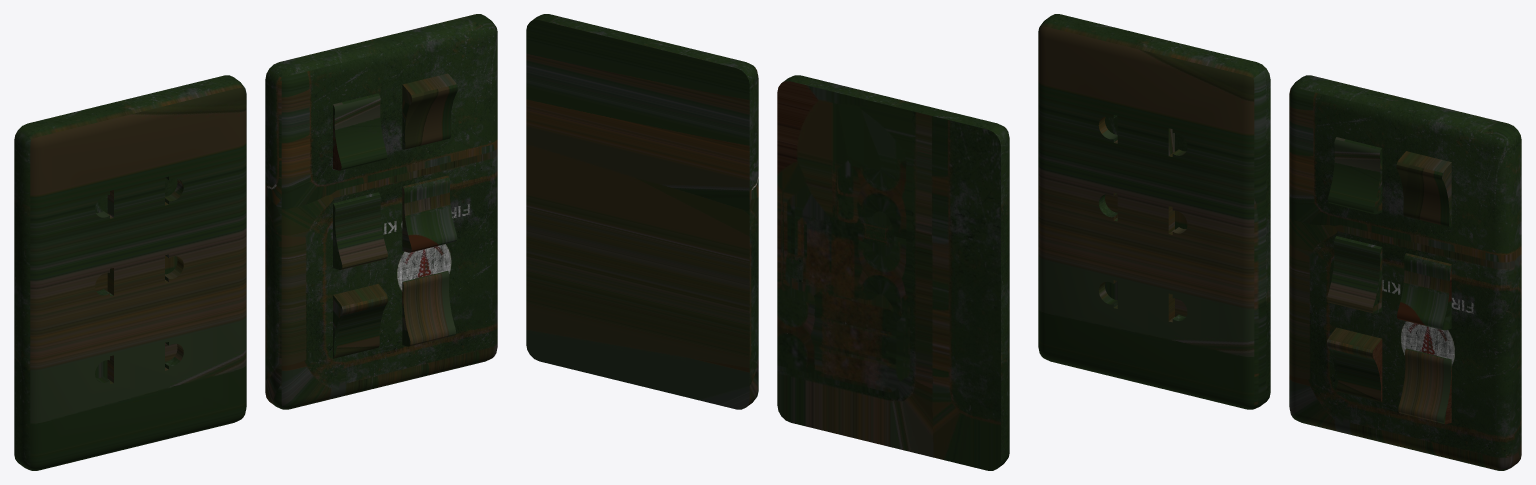
The model's file is Outlet.fbx.
3 renders of one model, left to right at view 1: azimuth 30°, elevation 25°; view 2: azimuth 150°, elevation 25°; view 3: azimuth 330°, elevation 25°, orthographic.
Visible parts, largest first — view 1: Cube_0, Cube.002_1; view 2: Cube_0, Cube.002_1; view 3: Cube_0, Cube.002_1.
Part boxes in pixels (<box>): Cube_0: <box>14,75,246,470</box>; Cube.002_1: <box>265,14,497,409</box>; Cube_0: <box>777,75,1009,470</box>; Cube.002_1: <box>526,14,758,409</box>; Cube_0: <box>1038,14,1270,409</box>; Cube.002_1: <box>1289,75,1521,470</box>.
Size of the model in its own units: 425 by 292 by 37.58.
